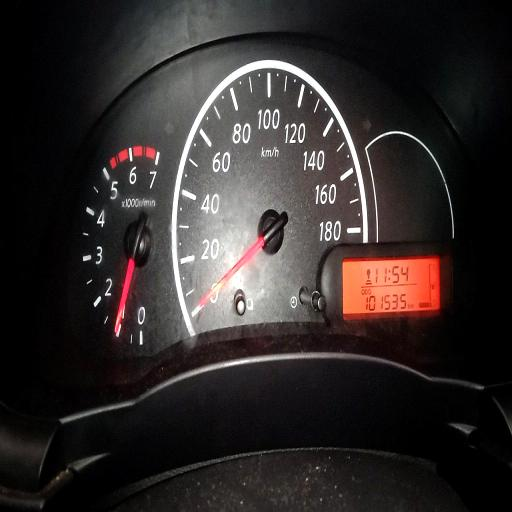tachometer: (81, 141, 172, 349)
